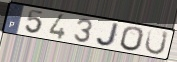3: (72, 18, 94, 44)
4: (47, 13, 68, 41)
5: (23, 9, 47, 35)
J: (95, 22, 121, 48)
O: (119, 26, 146, 52)
U: (144, 28, 171, 56)
